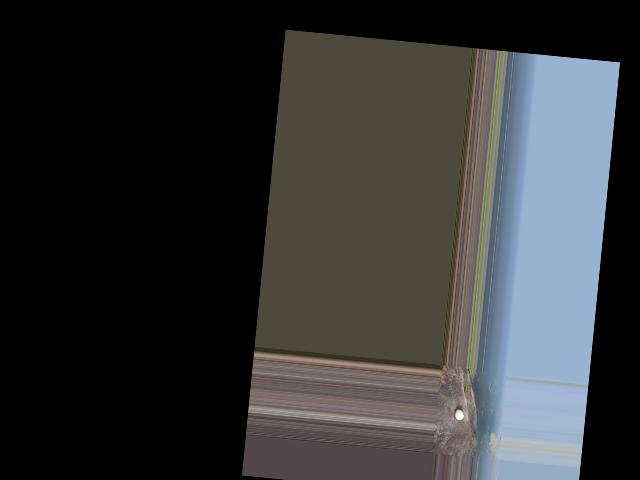egg: (454, 409, 464, 421)
